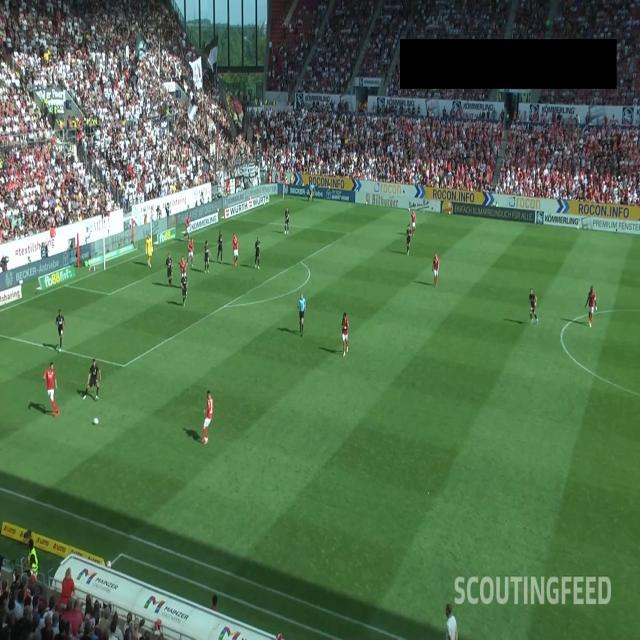ball: (93, 416, 99, 426)
